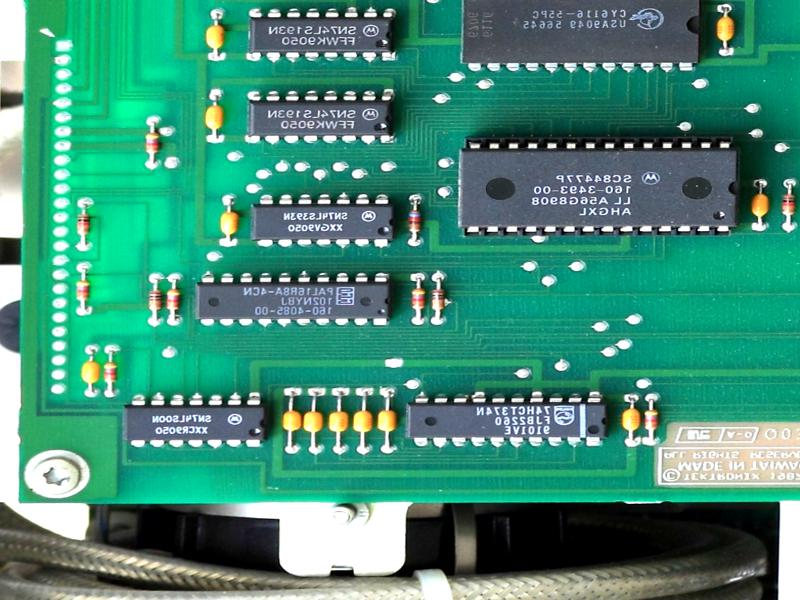Resistor: (428, 283, 451, 317), (641, 405, 663, 438), (163, 284, 185, 316), (142, 124, 162, 158), (405, 206, 426, 238), (74, 273, 92, 308), (777, 189, 797, 220), (101, 358, 120, 388), (409, 284, 427, 315), (146, 284, 163, 316), (75, 210, 93, 239)
